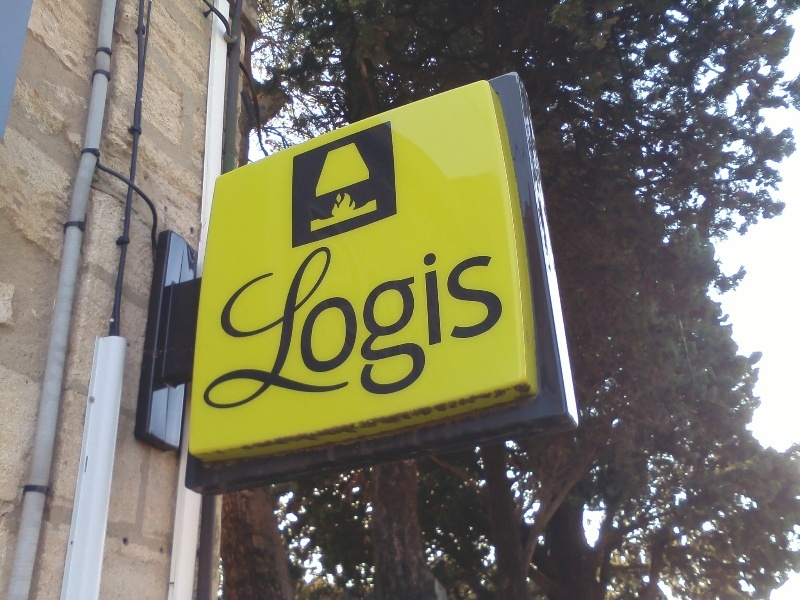text: (225, 199, 240, 444), (241, 199, 256, 444), (257, 199, 272, 444), (273, 199, 288, 444), (289, 199, 304, 444), (305, 199, 320, 444), (321, 199, 336, 444), (337, 199, 352, 444), (353, 199, 368, 444), (369, 199, 384, 444), (385, 199, 400, 444), (401, 199, 416, 444), (417, 199, 432, 444), (433, 199, 448, 444), (449, 199, 464, 444), (465, 199, 480, 444), (481, 199, 496, 444), (497, 199, 512, 444), (513, 199, 518, 444), (222, 199, 224, 444)
